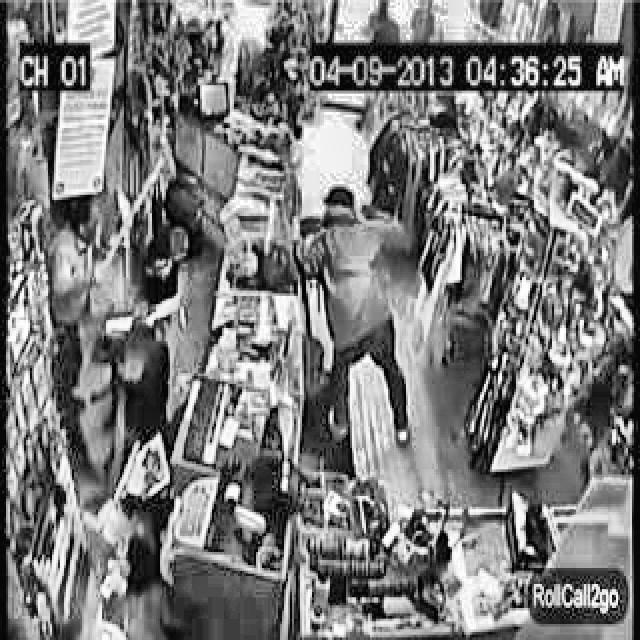robbery: (256, 185, 410, 447), (49, 153, 169, 324)
